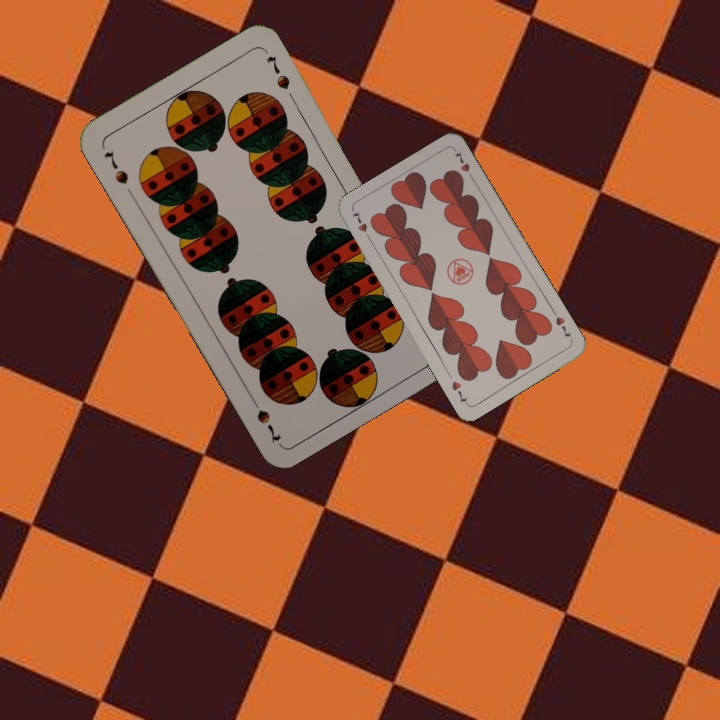H7: (348, 207, 374, 244), (551, 312, 574, 341)
S7: (99, 147, 132, 187)
